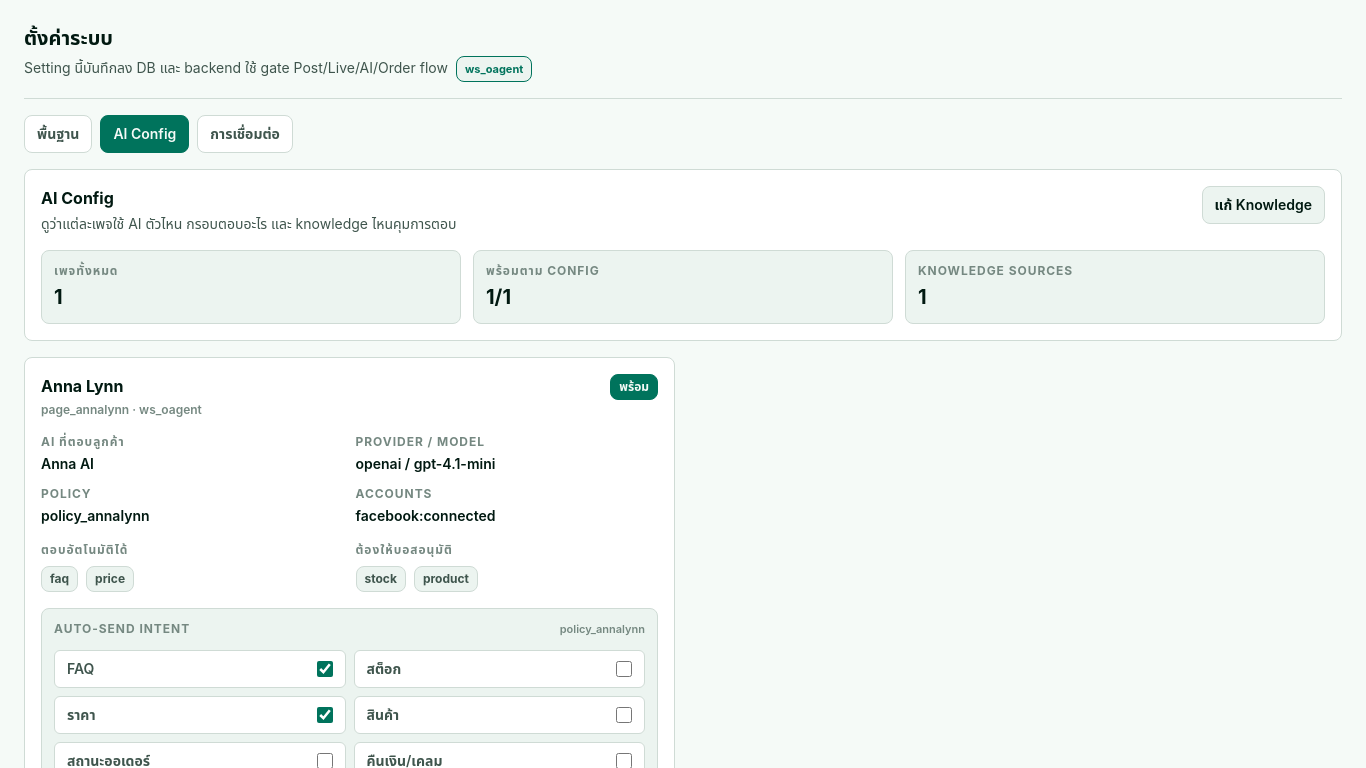
it: SettingsPage AI Config › updates auto-send intent from the AI Config UI and refreshes visible policy state
Expected: the text "faq" is shown, [41, 566, 78, 592]
Expected: the text "stock" is shown, [356, 566, 406, 592]
Click the checkbox labelled "สต็อก": point(624, 668) [616, 660, 632, 676]
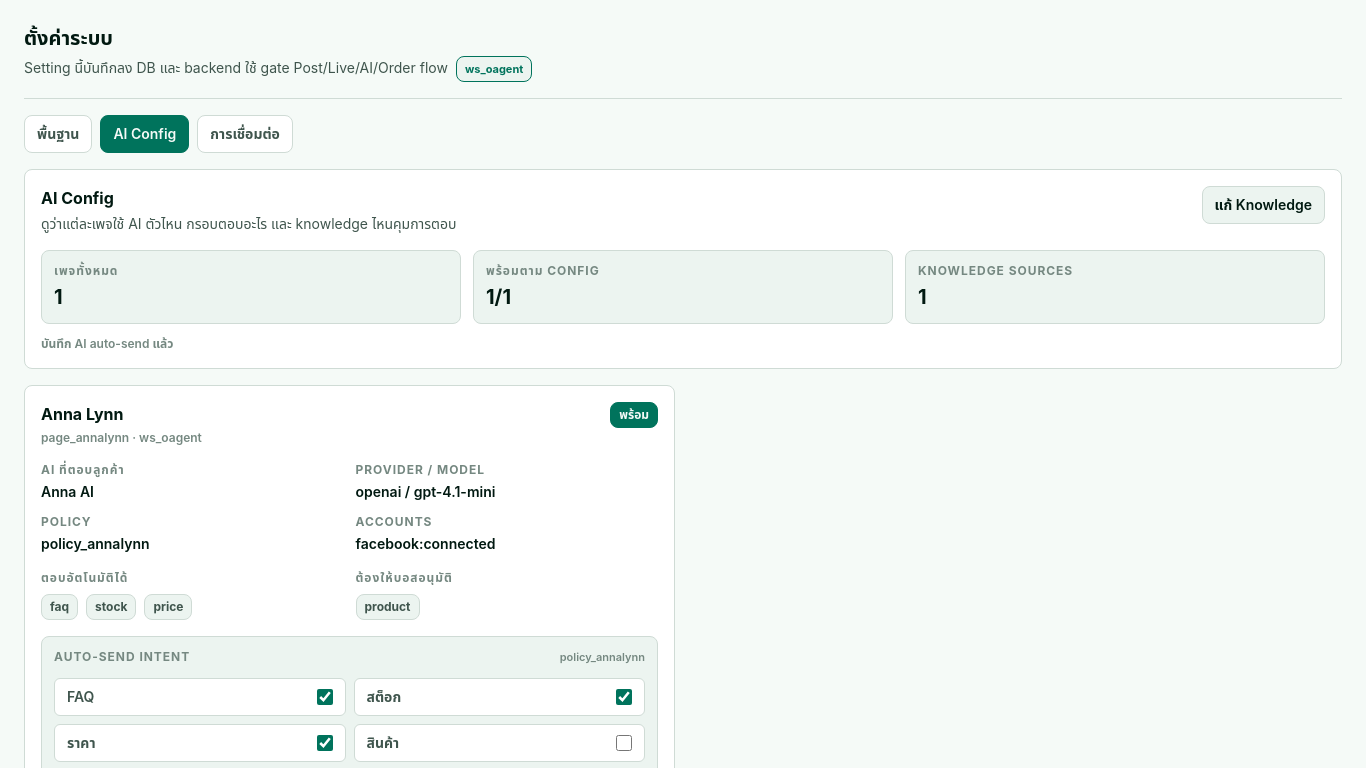
Expected: the text "stock" is shown, [86, 594, 136, 620]
Expected: the text "บันทึก AI auto-send แล้ว" is shown, [41, 336, 174, 351]
